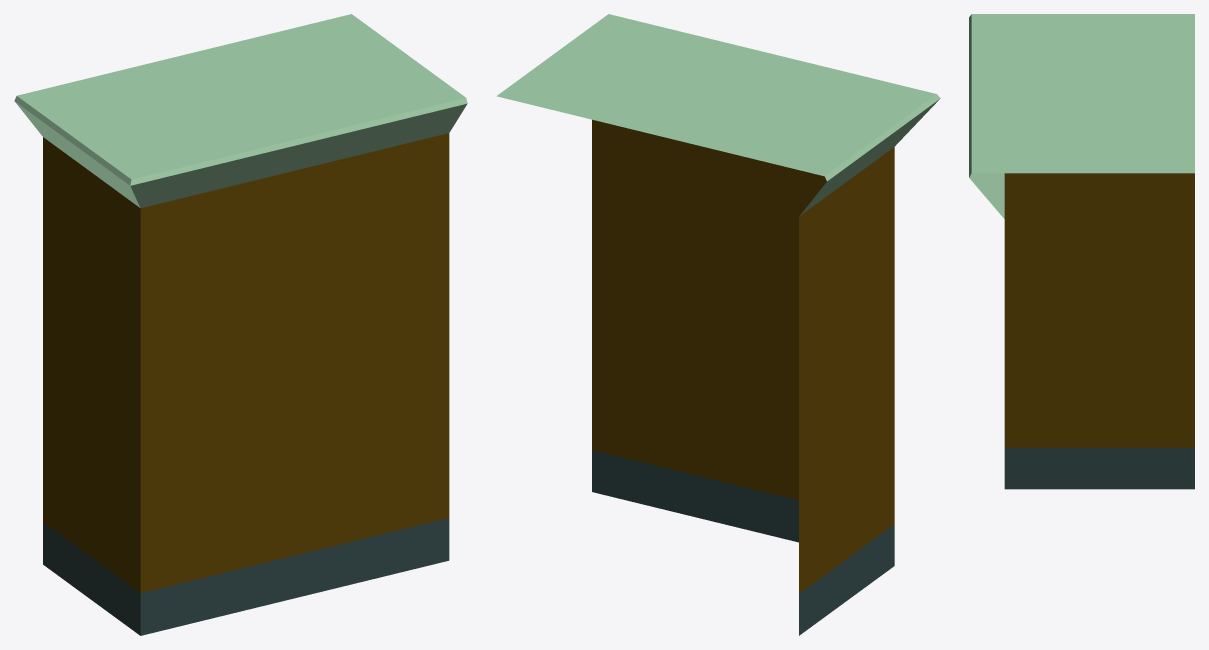
Rendered from Islaesquina.fbx.
The picture shows the model from 3 angles, left to right: view 1: azimuth 30°, elevation 25°; view 2: azimuth 150°, elevation 25°; view 3: azimuth 270°, elevation 25°; orthographic projection. The views are drawn at different scales.
Visible parts, largest first — view 1: Isla_esquina; view 2: Isla_esquina; view 3: Isla_esquina.
Boxes of the visible parts, <box> form: Isla_esquina: <box>14,14,467,635</box>; Isla_esquina: <box>496,14,940,635</box>; Isla_esquina: <box>969,14,1194,489</box>.
Bounding box in the file's own units: 74.31 × 100 × 44.24.
